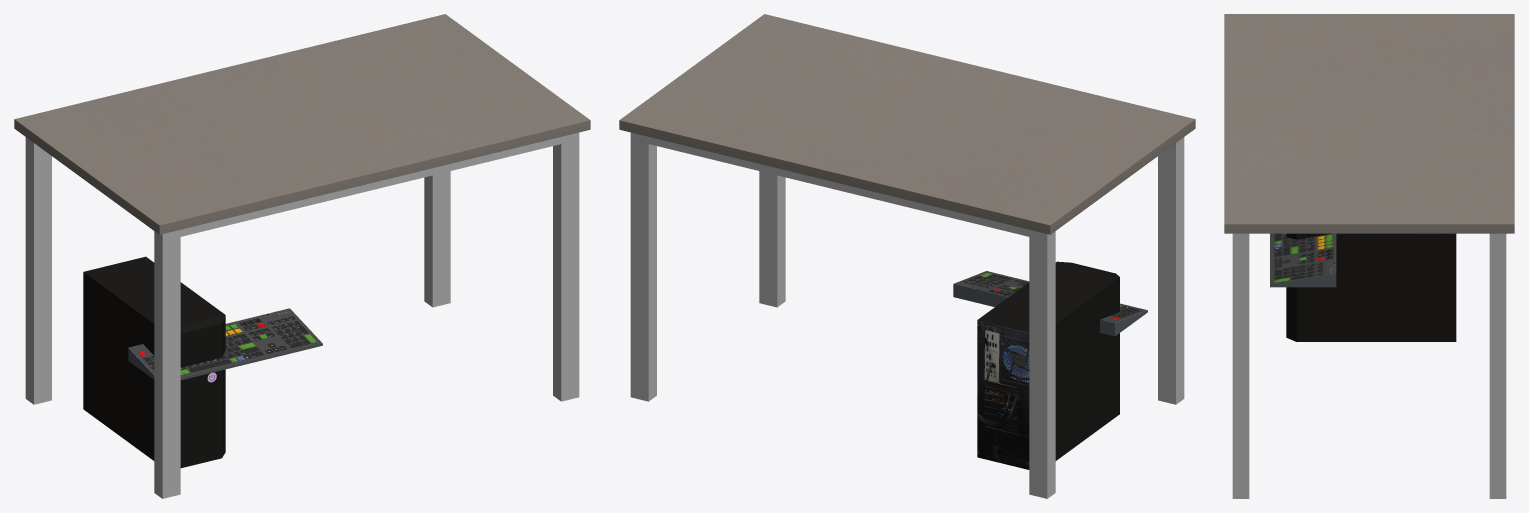
Rendered from bloomberg_desk1.fbx.
3 renders of one model, left to right at view 1: azimuth 30°, elevation 25°; view 2: azimuth 150°, elevation 25°; view 3: azimuth 270°, elevation 25°, orthographic.
Visible parts, largest first — view 1: bloomberg_desk, bloomberg_desk.001; view 2: bloomberg_desk, bloomberg_desk.001; view 3: bloomberg_desk, bloomberg_desk.001.
Boxes of the visible parts, box(x1,y1,x2,y2) form: bloomberg_desk: box(14, 14, 590, 498); bloomberg_desk.001: box(128, 308, 322, 380); bloomberg_desk: box(619, 14, 1195, 498); bloomberg_desk.001: box(953, 271, 1147, 336); bloomberg_desk: box(1224, 14, 1514, 498); bloomberg_desk.001: box(1270, 233, 1336, 287).
Bounding box in the file's own units: 120 × 74.02 × 70.
9 materials, 3 textured.
